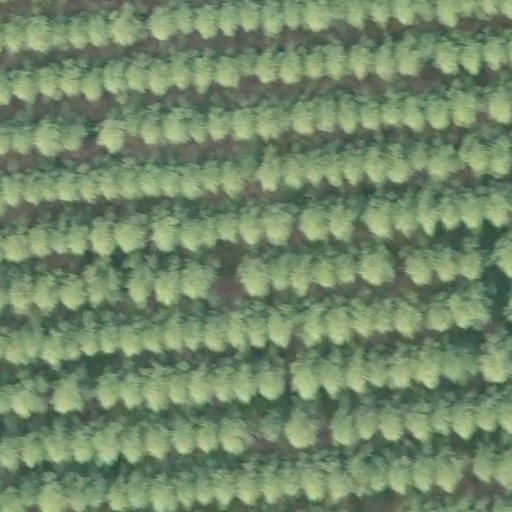eucalipto: (352, 242, 400, 291), (233, 251, 280, 300), (180, 252, 221, 300), (449, 84, 488, 129), (394, 32, 432, 78), (94, 107, 130, 155), (288, 350, 321, 401), (219, 409, 255, 455), (109, 2, 146, 46), (51, 370, 88, 414), (323, 195, 359, 240), (150, 259, 185, 305), (362, 194, 396, 241), (400, 396, 434, 443), (114, 210, 151, 253), (261, 199, 294, 247), (478, 339, 512, 385), (255, 353, 288, 400), (425, 137, 460, 181), (411, 342, 443, 390), (459, 132, 491, 180), (371, 35, 402, 84), (324, 297, 355, 346), (265, 302, 298, 347), (434, 446, 464, 494), (284, 407, 319, 447), (300, 455, 329, 503), (416, 182, 440, 239), (405, 243, 436, 287), (141, 365, 170, 412), (299, 199, 329, 244), (327, 401, 357, 446), (202, 101, 234, 143), (320, 139, 346, 190), (69, 421, 99, 465), (93, 423, 123, 467), (93, 363, 121, 410), (190, 48, 217, 96), (383, 140, 413, 183), (220, 156, 250, 199), (345, 35, 374, 79), (320, 351, 346, 400), (393, 296, 424, 337), (377, 397, 405, 442), (187, 363, 217, 405), (392, 190, 417, 240), (336, 88, 362, 136), (352, 396, 380, 440), (143, 418, 172, 460), (57, 114, 89, 152), (434, 239, 461, 284), (437, 186, 463, 232), (204, 310, 231, 354), (170, 413, 197, 457), (473, 389, 500, 433), (23, 11, 50, 54), (275, 454, 302, 497), (425, 292, 454, 332), (458, 186, 484, 230), (449, 393, 475, 437), (389, 456, 415, 500), (60, 270, 89, 309), (119, 421, 144, 466), (346, 346, 369, 394), (43, 322, 66, 370), (10, 66, 39, 104), (425, 89, 451, 131), (117, 321, 145, 359), (460, 32, 484, 76), (214, 52, 243, 88), (281, 147, 307, 187), (17, 430, 45, 467), (482, 36, 510, 73), (212, 362, 236, 405), (367, 451, 391, 494), (148, 2, 175, 40), (401, 94, 429, 130), (195, 416, 222, 453), (64, 12, 90, 50), (358, 93, 382, 134), (194, 1, 219, 40), (232, 102, 257, 141), (256, 408, 283, 444), (180, 311, 203, 353), (181, 213, 206, 251), (56, 164, 81, 202), (160, 157, 182, 199), (278, 48, 305, 82), (34, 59, 58, 97), (12, 120, 36, 156), (86, 10, 109, 47), (218, 1, 241, 37), (291, 100, 315, 133), (175, 1, 194, 35)
